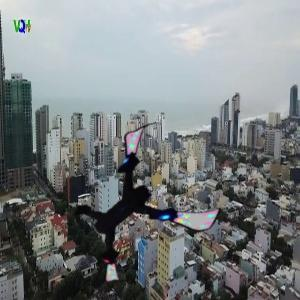drone: (66, 129, 208, 271)
